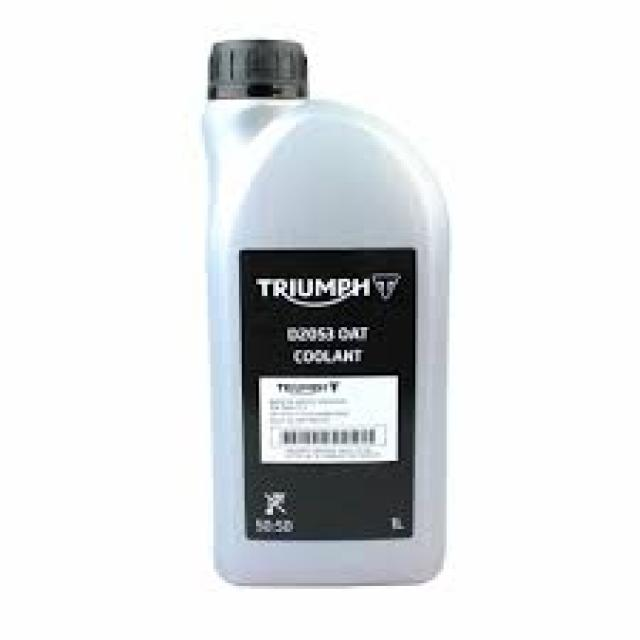coolant: (188, 30, 458, 601)
